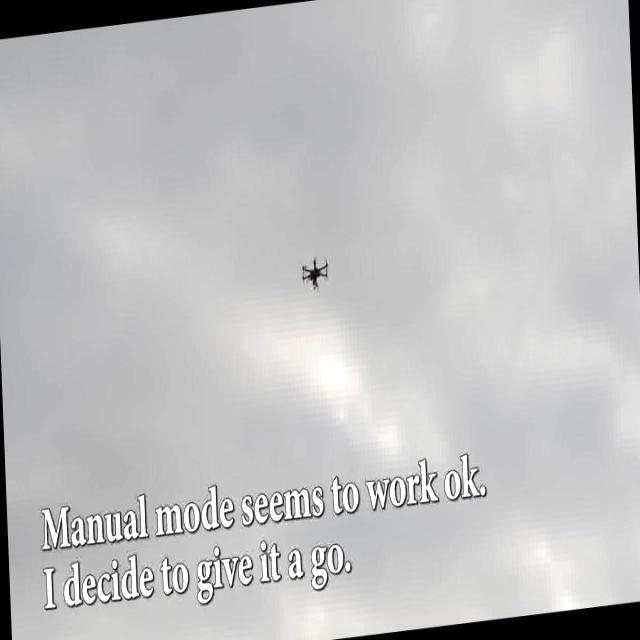drone: (298, 252, 332, 297)
